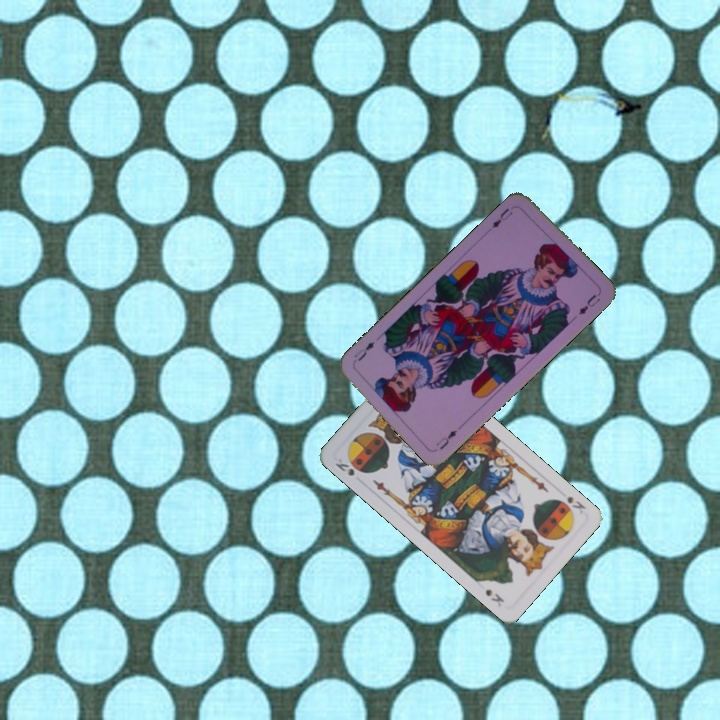EU: (488, 204, 515, 231), (432, 426, 460, 452)
SK: (331, 454, 367, 479), (562, 491, 588, 516)
